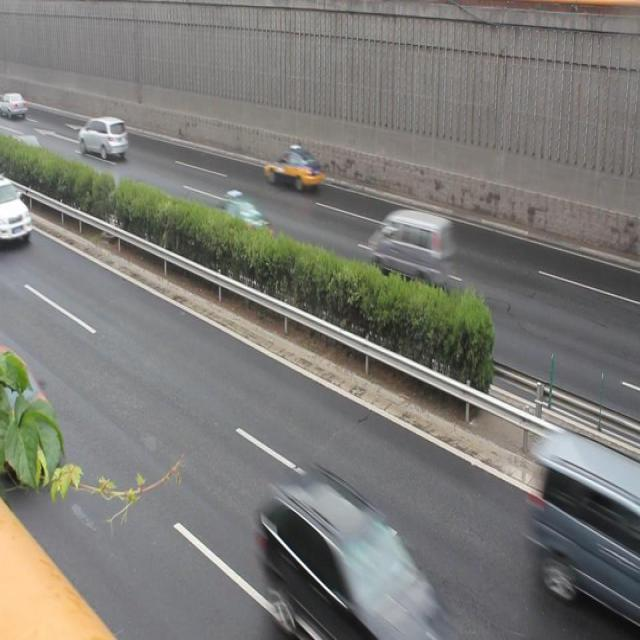car: (263, 477, 437, 640), (1, 352, 58, 482), (193, 195, 275, 258), (262, 146, 322, 192), (78, 118, 128, 162), (1, 182, 33, 246)
truck: (532, 432, 640, 627), (368, 207, 453, 285)
